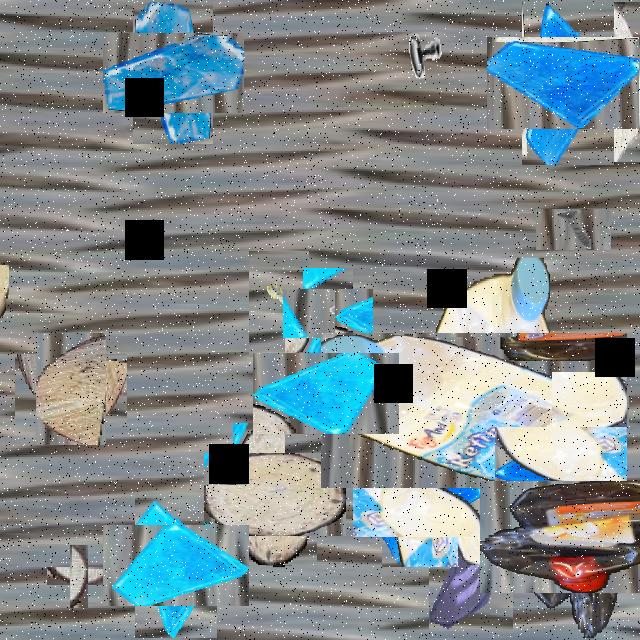glass: (504, 20, 632, 147), (119, 508, 233, 622), (269, 336, 383, 450), (429, 489, 513, 638), (118, 18, 228, 128), (367, 447, 473, 552)
metal: (536, 362, 618, 442), (249, 251, 309, 357), (293, 278, 363, 348), (545, 200, 603, 259), (405, 16, 445, 87)
plastic: (358, 295, 590, 526), (501, 458, 640, 615)
wood: (218, 438, 332, 550), (25, 344, 117, 435), (609, 2, 640, 162), (59, 556, 100, 596), (0, 252, 8, 370)
